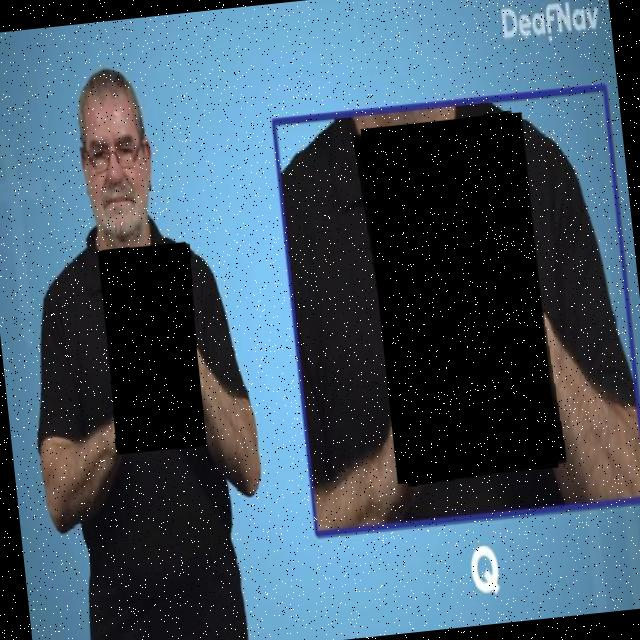Q: (357, 112, 564, 488), (98, 242, 210, 456)
